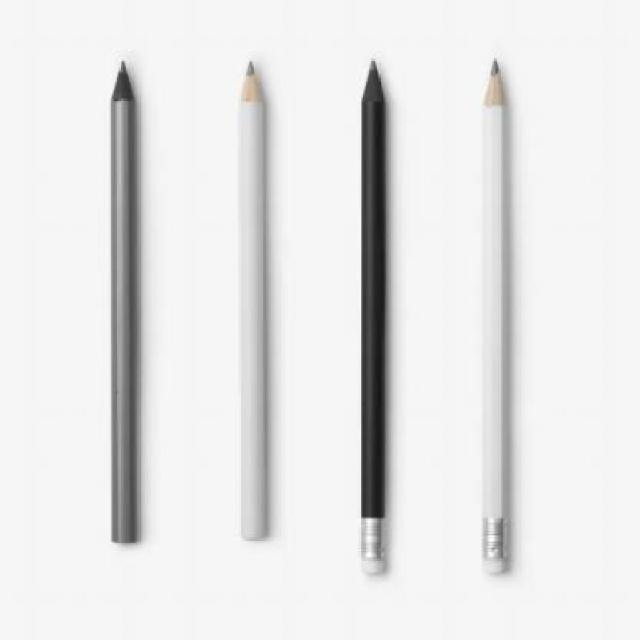pencil: (230, 52, 276, 543)
